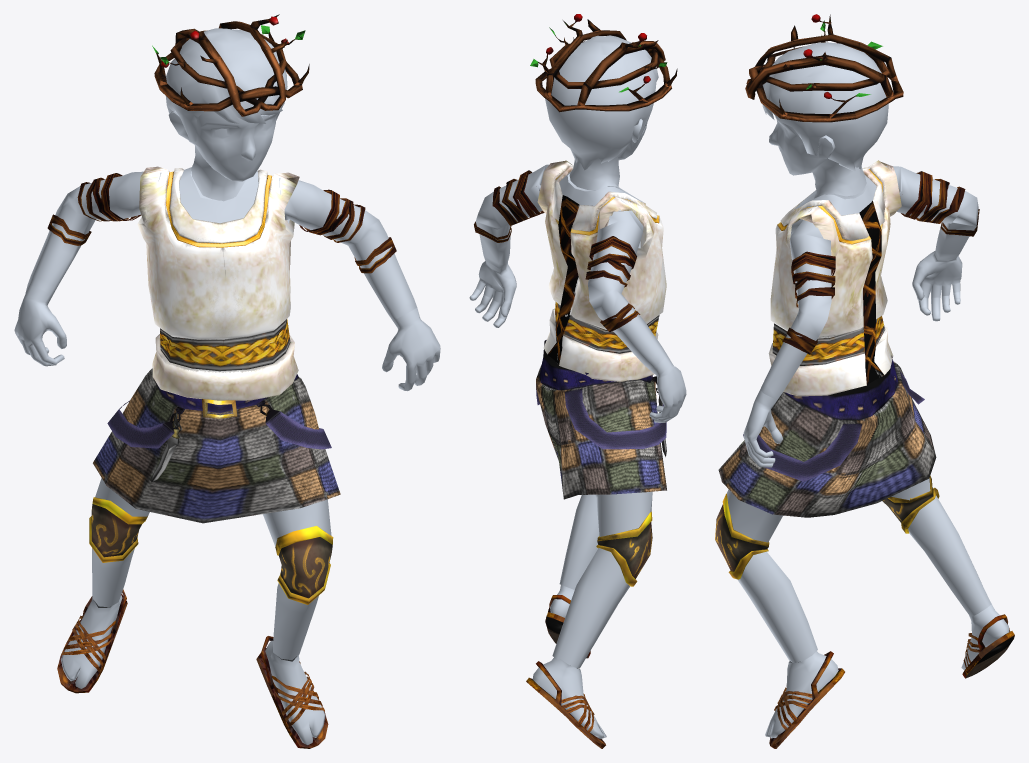
File: M_dea_matrona_pose.gltf
The picture shows the model from 3 angles, left to right: view 1: azimuth 30°, elevation 25°; view 2: azimuth 150°, elevation 25°; view 3: azimuth 270°, elevation 25°; orthographic projection. The views are drawn at different scales.
Visible parts, largest first — view 1: M_UPPERBODY_DEA, M_LOWERBODY_DEA, M_Feet_DEA, M_Hair_Standard_01.003, M_TIARA_DEA, head_mamasara_m, ShapeA_Hands_BaseMesh.005; view 2: M_UPPERBODY_DEA, M_LOWERBODY_DEA, M_Hair_Standard_01.003, M_TIARA_DEA, M_Feet_DEA, ShapeA_Hands_BaseMesh.005, head_mamasara_m; view 3: M_LOWERBODY_DEA, M_UPPERBODY_DEA, M_Hair_Standard_01.003, M_TIARA_DEA, M_Feet_DEA, ShapeA_Hands_BaseMesh.005, head_mamasara_m.
Boxes of the visible parts, <box> form: M_UPPERBODY_DEA: <box>27,166,417,400</box>; M_LOWERBODY_DEA: <box>89,368,340,659</box>; M_Feet_DEA: <box>57,589,328,748</box>; M_Hair_Standard_01.003: <box>166,28,287,144</box>; M_TIARA_DEA: <box>152,14,309,116</box>; head_mamasara_m: <box>168,110,277,201</box>; ShapeA_Hands_BaseMesh.005: <box>14,285,440,391</box>; M_UPPERBODY_DEA: <box>474,160,666,381</box>; M_LOWERBODY_DEA: <box>536,340,666,668</box>; M_Hair_Standard_01.003: <box>545,35,658,170</box>; M_TIARA_DEA: <box>530,14,677,112</box>; M_Feet_DEA: <box>526,585,606,748</box>; ShapeA_Hands_BaseMesh.005: <box>469,259,686,422</box>; head_mamasara_m: <box>569,119,647,189</box>; M_LOWERBODY_DEA: <box>715,355,991,662</box>; M_UPPERBODY_DEA: <box>760,160,979,399</box>; M_Hair_Standard_01.003: <box>762,42,888,171</box>; M_TIARA_DEA: <box>745,14,903,122</box>; M_Feet_DEA: <box>765,604,1014,748</box>; ShapeA_Hands_BaseMesh.005: <box>743,250,962,467</box>; head_mamasara_m: <box>769,116,866,198</box>.
Bounding box in the file's own units: 1.79 × 3.85 × 1.52.
Materials: 3 (2 with a texture image).
